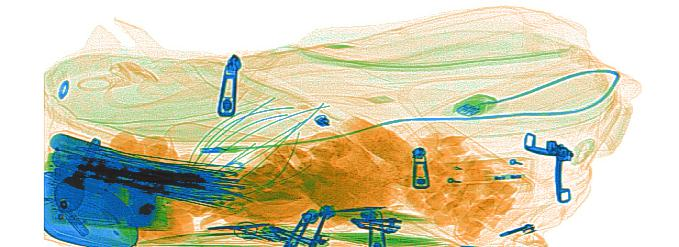battery: (48, 128, 151, 200)
